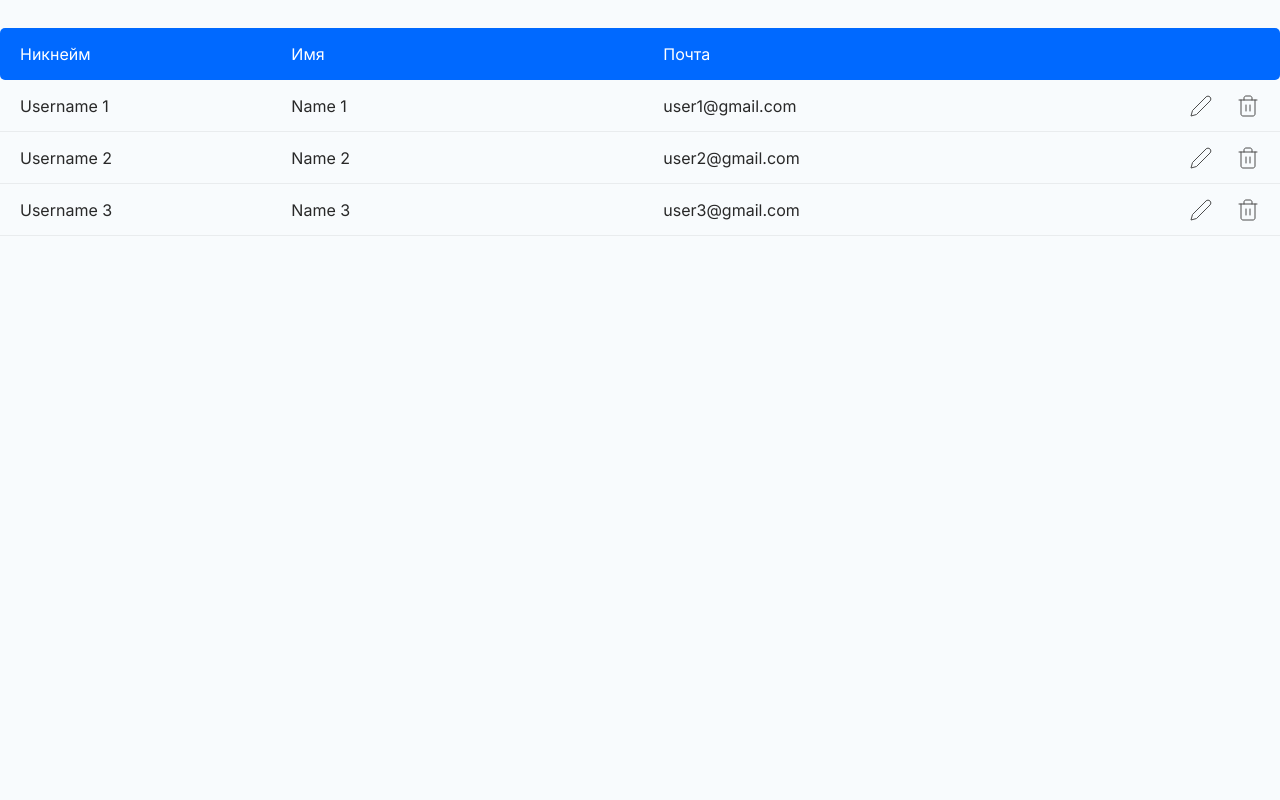
it: Users › should show modalManage if pencil icon was clicked
Click the picture with alt text "pencil" in the row of "user1@gmail.com": (1201, 106) [1186, 90, 1216, 120]
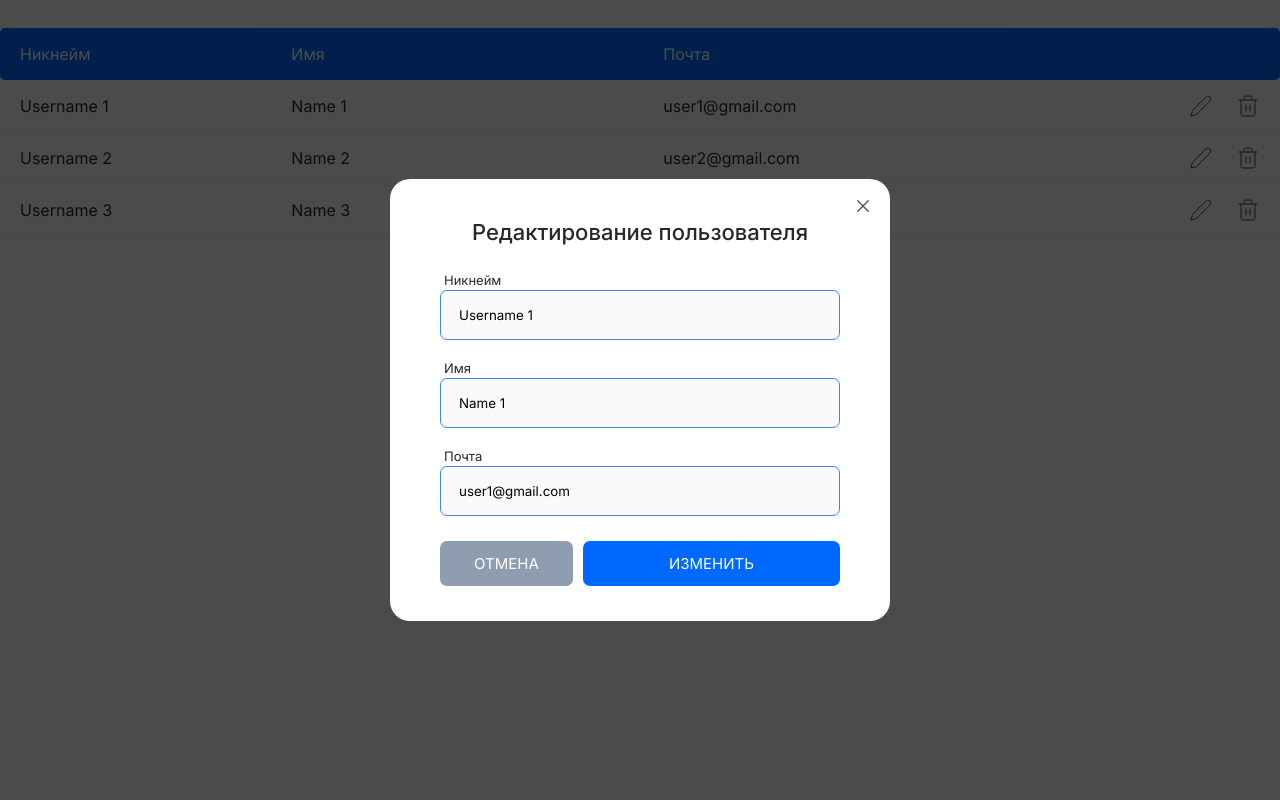
Expected: the form with test id "modalManage" is shown, [440, 219, 840, 586]
